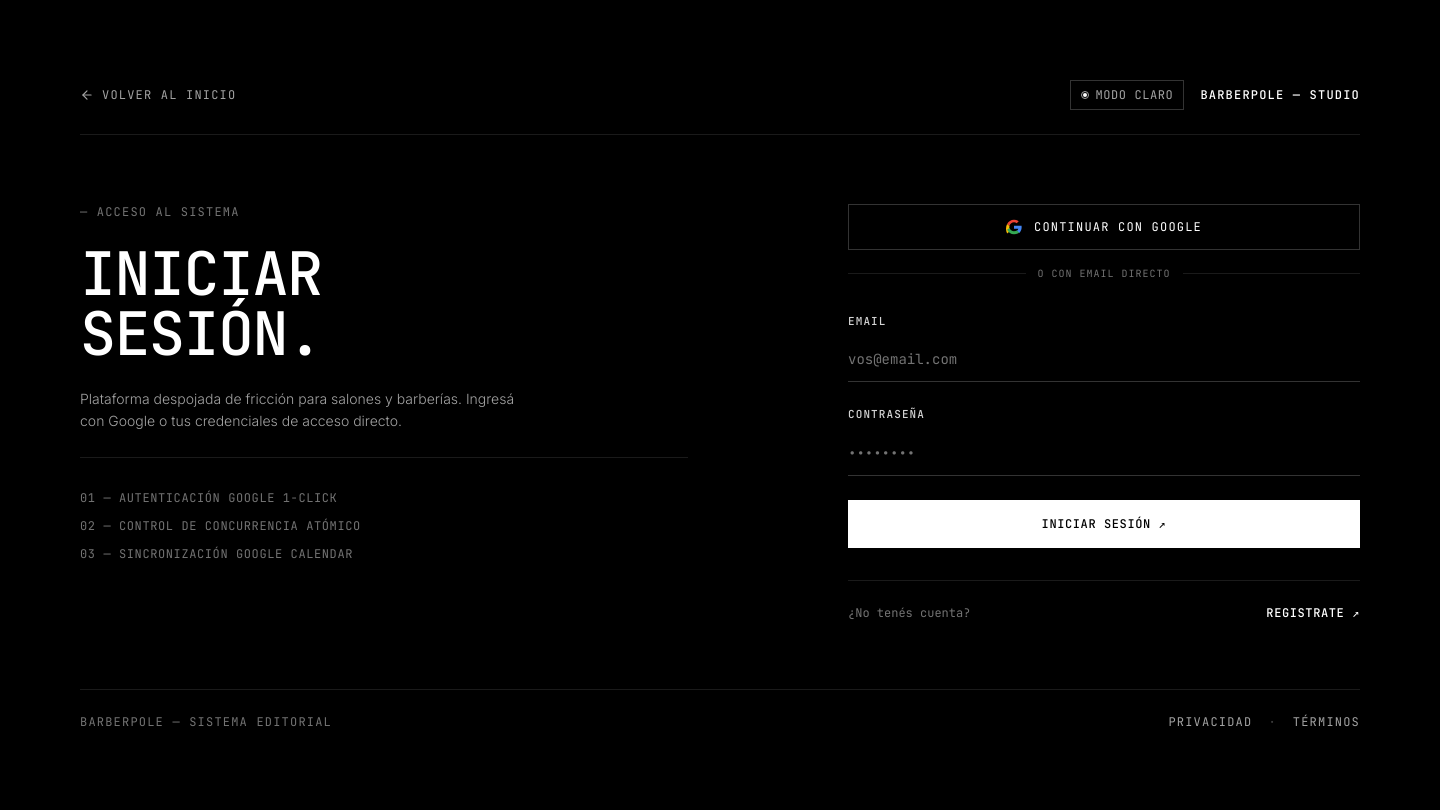
Test case: Login Component — Profesional & Zen › valida campos obligatorios si se intenta enviar vacío
Click the button "Iniciar sesión ↗" at (1104, 524), box [848,500,1360,548]
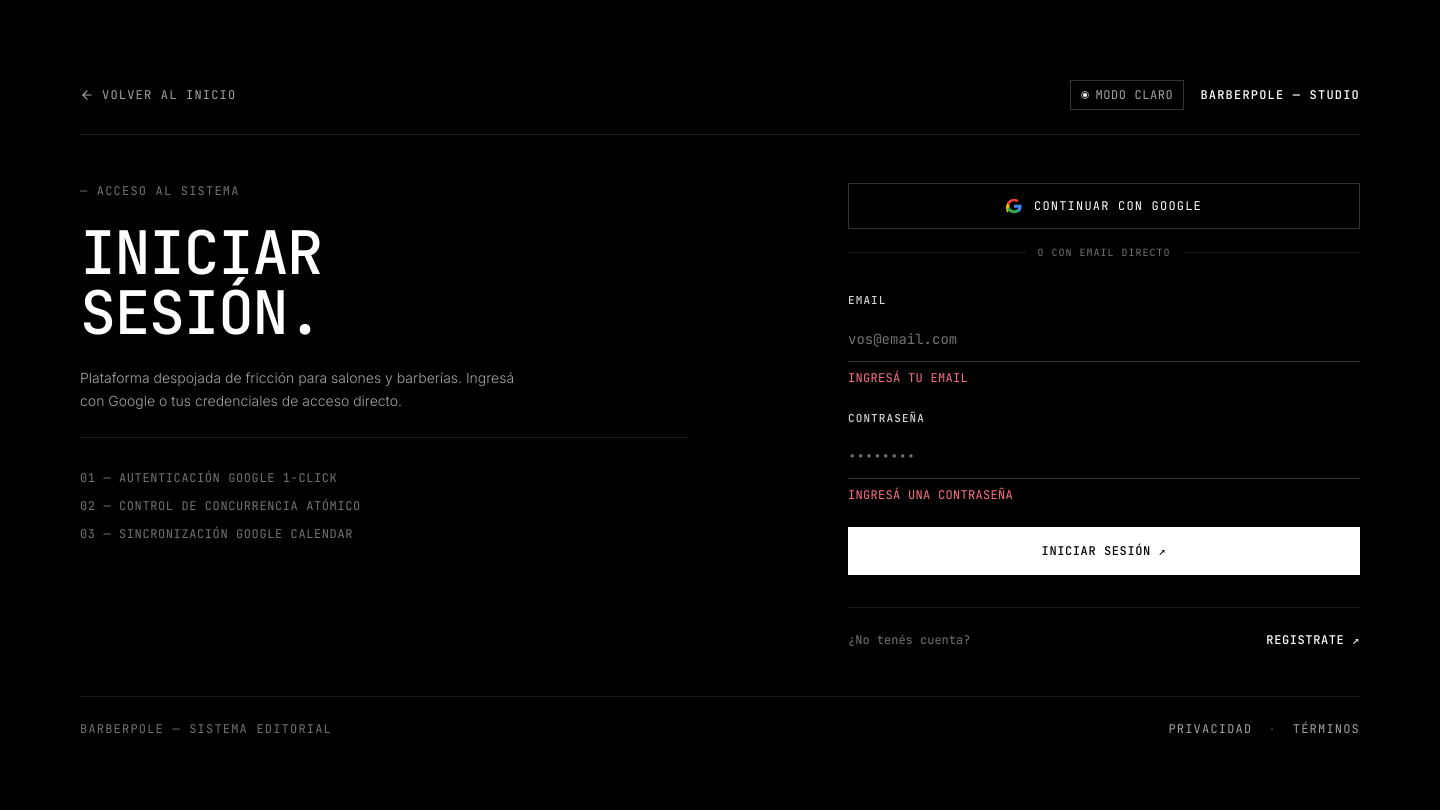
Expected: the text "Ingresá tu email" is shown, [848,370,968,386]
